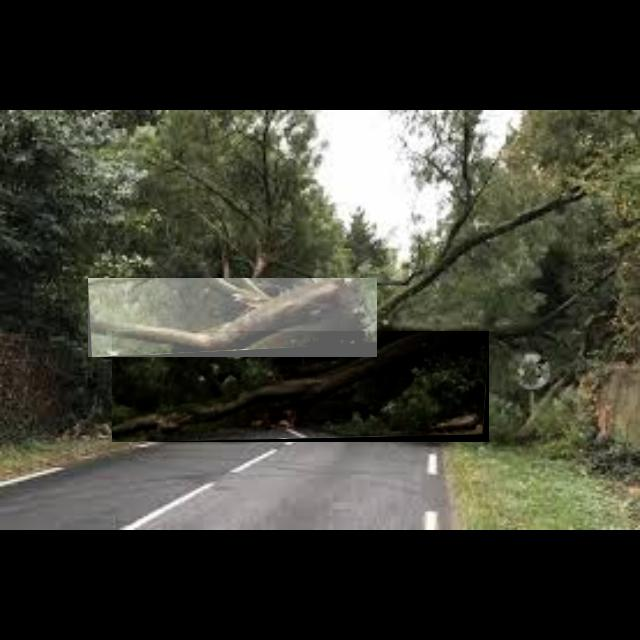Fallen Tree: (112, 331, 490, 443), (88, 278, 378, 358)
